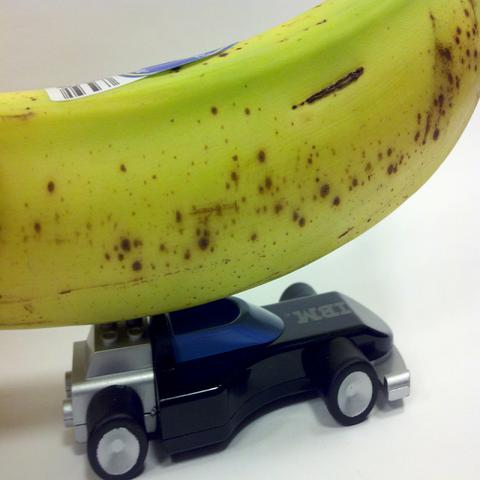car: (62, 284, 412, 474)
